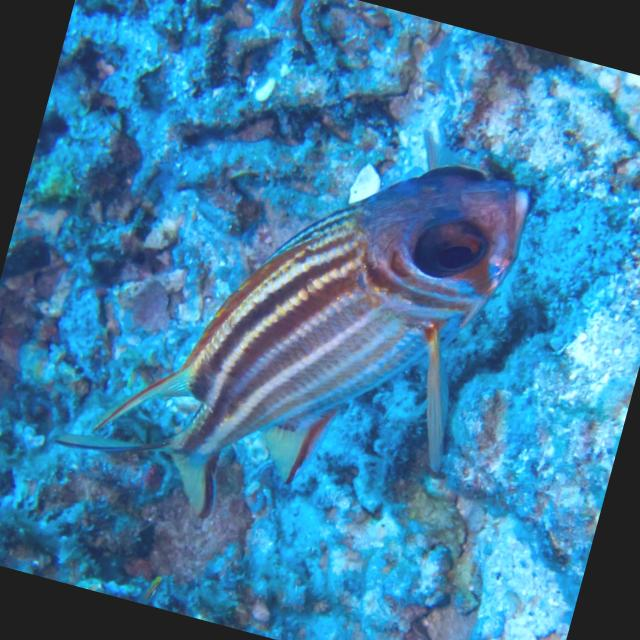Asker Baligi: (16, 43, 556, 624)
